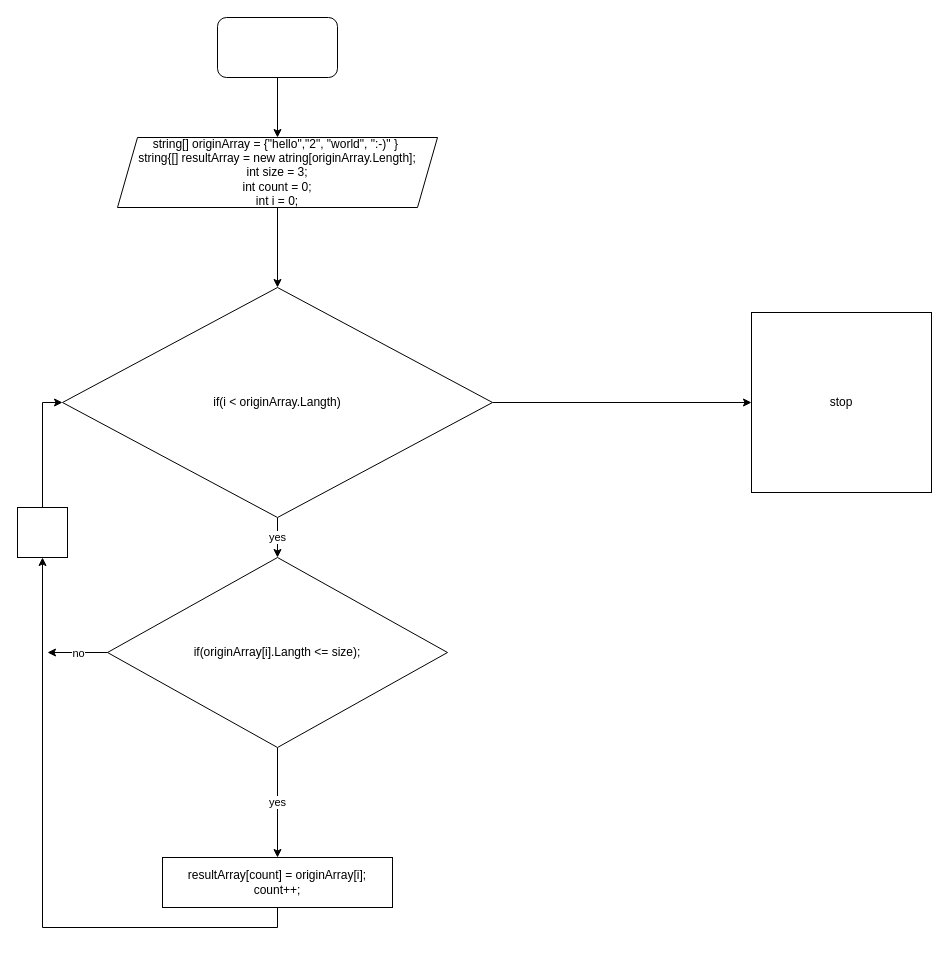
Some shapes in this 949 by 953 pixel diagram are drawn without their labels. The box of each missing label's shape, as (x1, y1, x2, y2) in pixels:
i++;: (16, 506, 68, 558)
start TransformationArray(): (216, 16, 338, 78)
